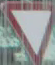Give way: (0, 0, 52, 61)
